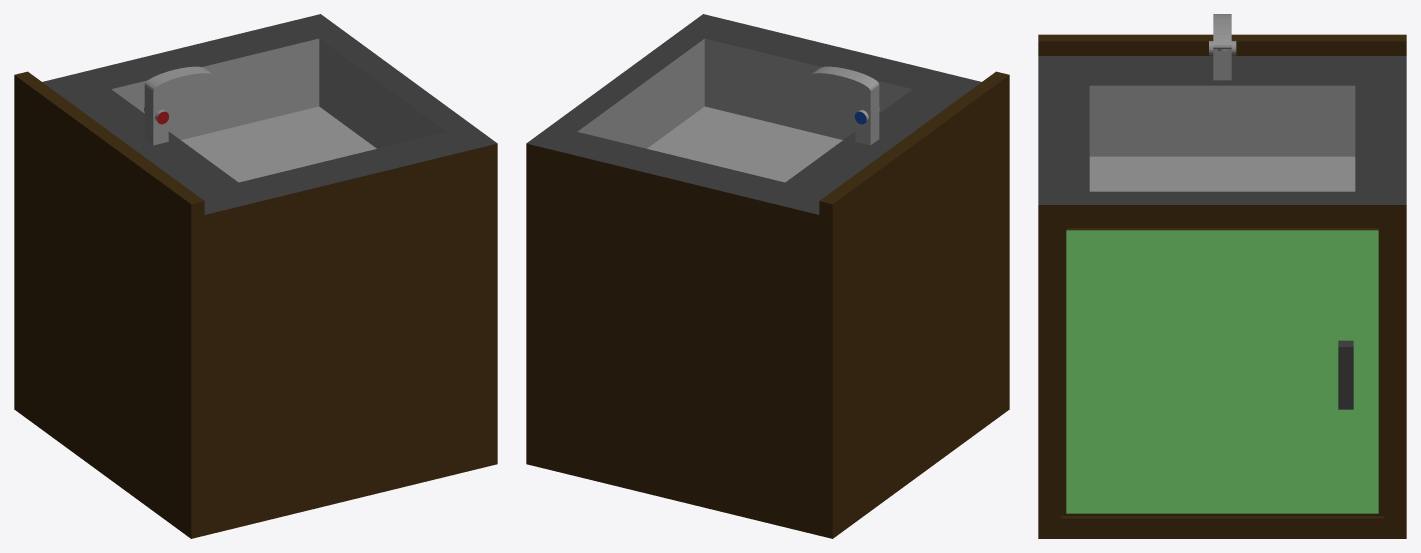
File: sink c.fbx
3 renders of one model, left to right at view 1: azimuth 30°, elevation 25°; view 2: azimuth 150°, elevation 25°; view 3: azimuth 270°, elevation 25°, orthographic. The views are drawn at different scales.
Parts seen in each view (by area): view 1: Cube, Cylinder.001; view 2: Cube, Cylinder.001; view 3: Cube, Cylinder.001.
Part boxes in pixels (<box>): Cube: <box>14,14,497,538</box>; Cylinder.001: <box>144,66,214,145</box>; Cube: <box>526,14,1009,538</box>; Cylinder.001: <box>809,66,879,145</box>; Cube: <box>1038,34,1406,538</box>; Cylinder.001: <box>1209,14,1236,80</box>.
Size of the model in its own units: 104 by 119 by 100.
